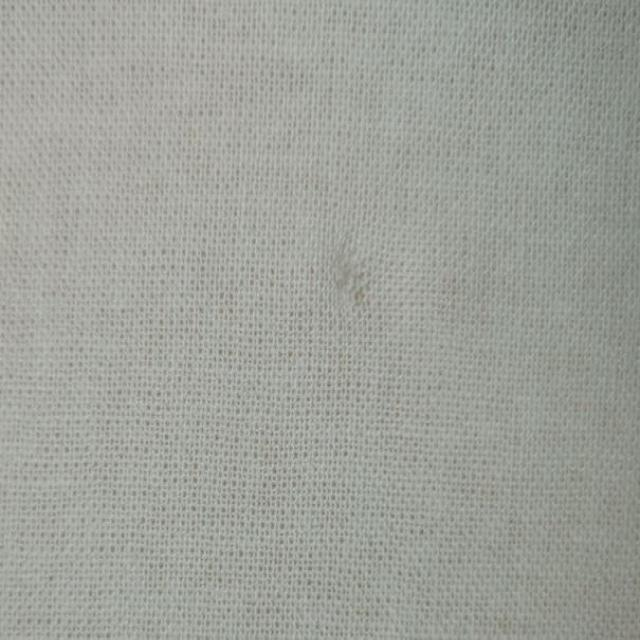other: (266, 214, 432, 378)
